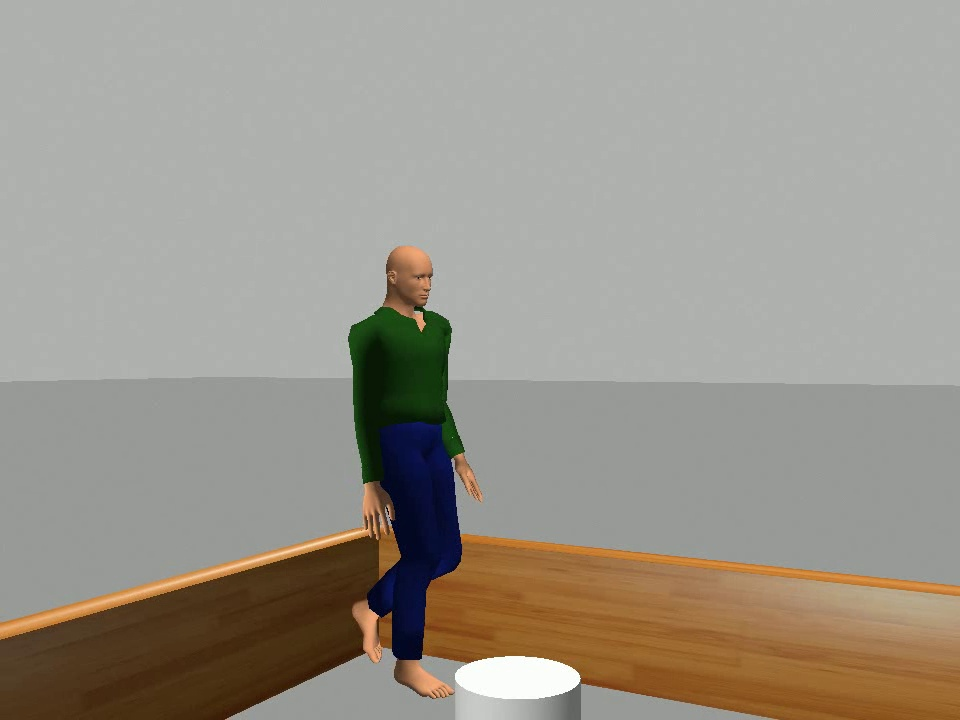person: (345, 243, 485, 701)
